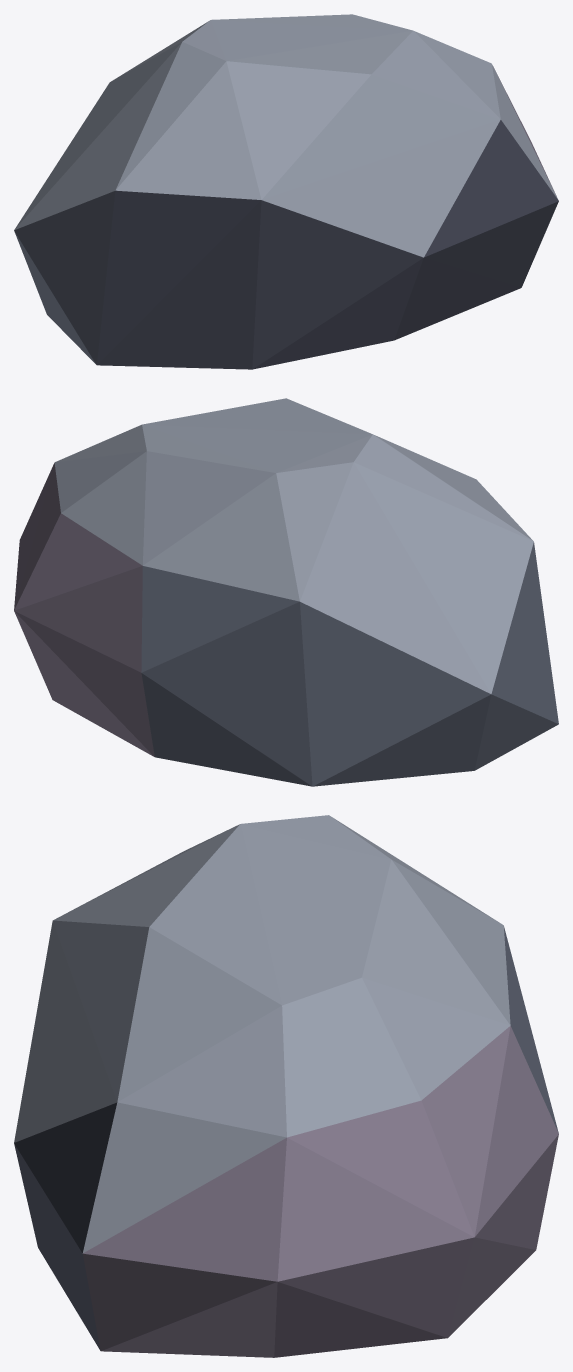
Rendered from TW_ROCK_LOW_WEDGE_A_LOD1.glb.
3 renders of one model, top to bottom at view 1: azimuth 30°, elevation 25°; view 2: azimuth 150°, elevation 25°; view 3: azimuth 270°, elevation 25°, orthographic. The views are drawn at different scales.
Visible parts, largest first — view 1: TW_ROCK_LOW_WEDGE_A_LOD1; view 2: TW_ROCK_LOW_WEDGE_A_LOD1; view 3: TW_ROCK_LOW_WEDGE_A_LOD1.
Boxes of the visible parts, bbox=[...] form: TW_ROCK_LOW_WEDGE_A_LOD1: bbox=[14, 14, 558, 369]; TW_ROCK_LOW_WEDGE_A_LOD1: bbox=[14, 398, 558, 786]; TW_ROCK_LOW_WEDGE_A_LOD1: bbox=[14, 815, 558, 1357].
Bounding box in the file's own units: 1.3 × 0.65 × 0.9.
Materials: 1 (1 with a texture image).
